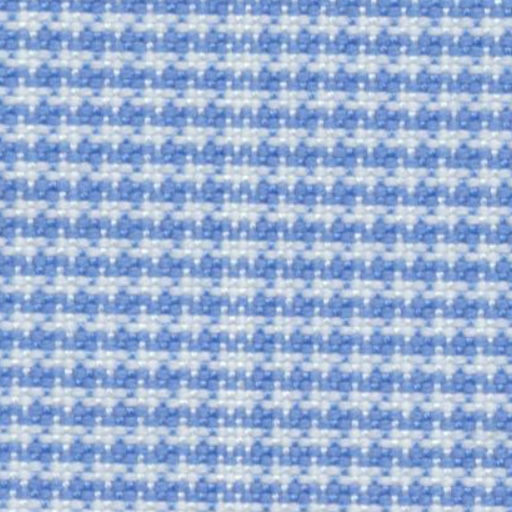TuoSha: (204, 23, 266, 498)
